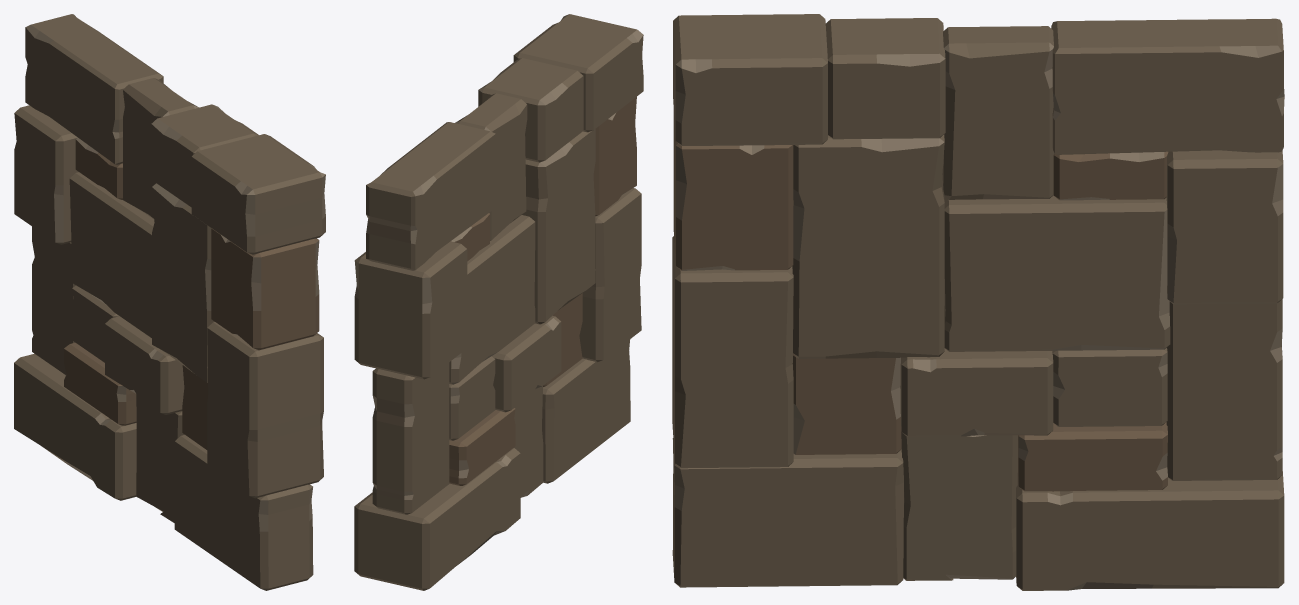
The model's file is entrada_wall_west_4_lev3.glb.
The picture shows the model from 3 angles, left to right: view 1: azimuth 30°, elevation 25°; view 2: azimuth 150°, elevation 25°; view 3: azimuth 270°, elevation 25°; orthographic projection. The views are drawn at different scales.
Parts seen in each view (by area): view 1: entrada_wall_west_4_lev3; view 2: entrada_wall_west_4_lev3; view 3: entrada_wall_west_4_lev3.
Boxes of the visible parts, left/top/right/bottom form: entrada_wall_west_4_lev3: left=14, top=14, right=325, bottom=590; entrada_wall_west_4_lev3: left=354, top=14, right=643, bottom=590; entrada_wall_west_4_lev3: left=672, top=14, right=1284, bottom=590.
Bounding box in the file's own units: 1.36 × 5.98 × 6.18.
